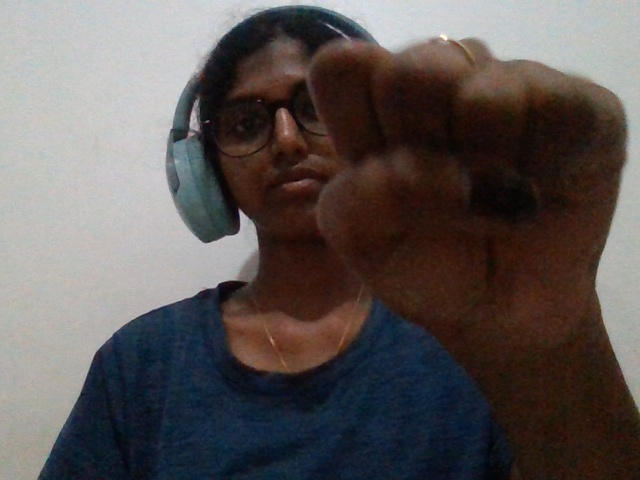Yes: (274, 12, 639, 412)
